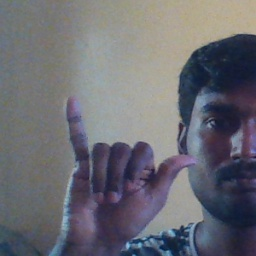J: (52, 94, 197, 248)
